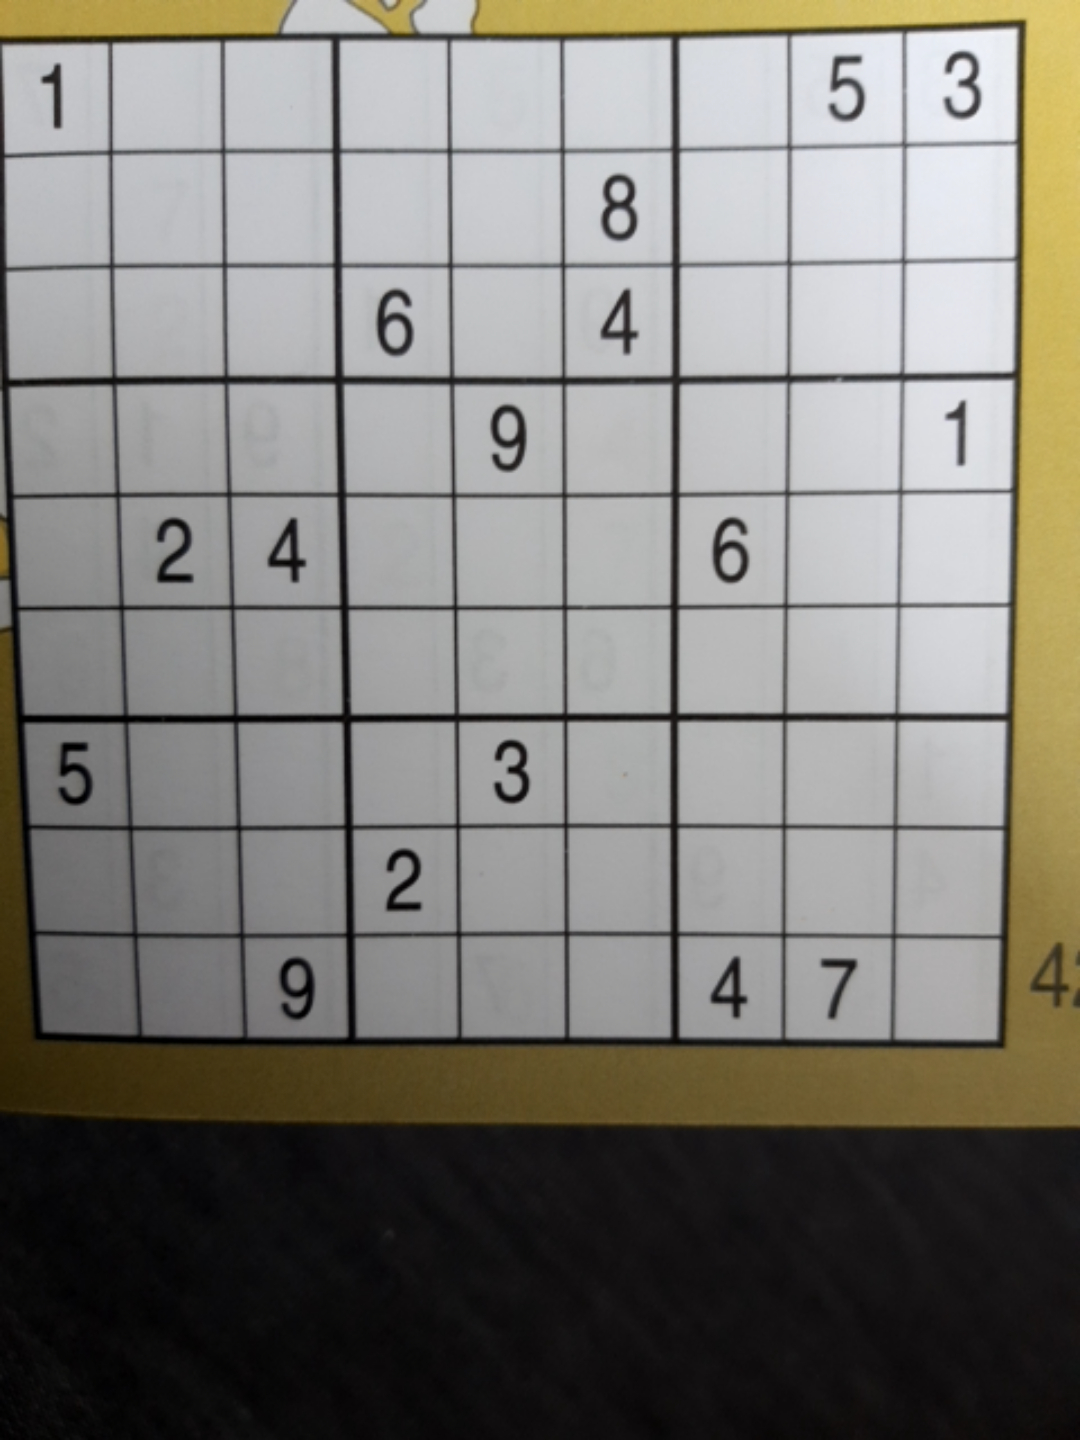sudoku: (2, 33, 1022, 1049)
